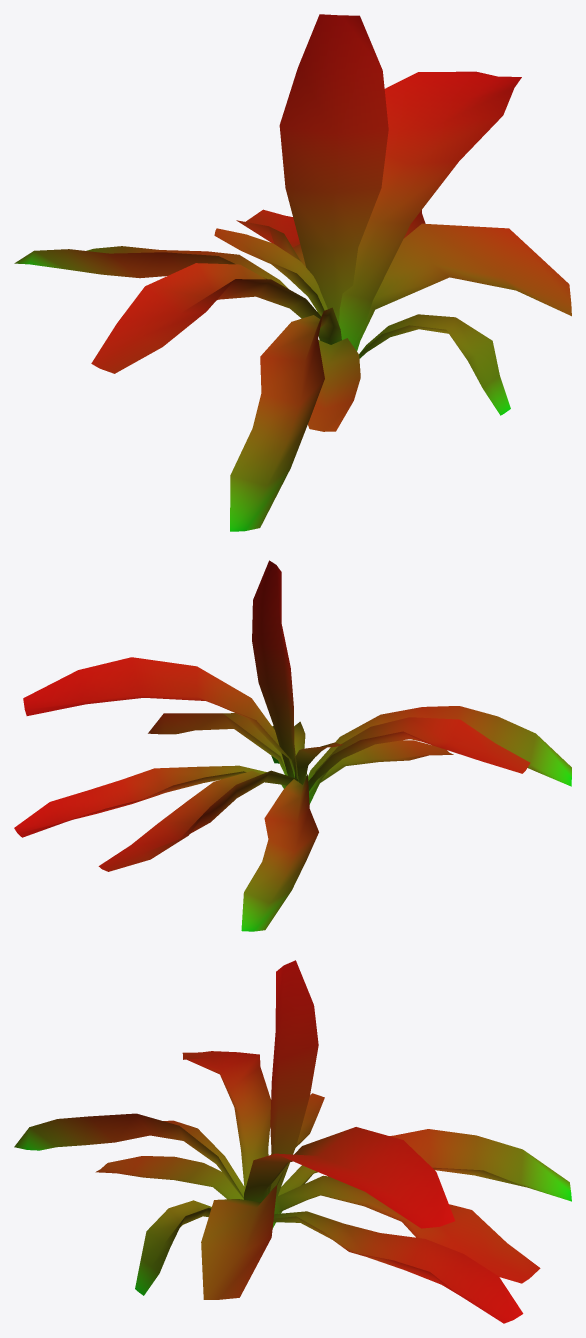
File: Bog Marshcress_LOD1_Var4_theqfivr.fbx
3 views of the same model, one above another, from view 1: azimuth 30°, elevation 25°; view 2: azimuth 150°, elevation 25°; view 3: azimuth 270°, elevation 25° (orthographic). The views are drawn at different scales.
Visible parts, largest first — view 1: merge1; view 2: merge1; view 3: merge1.
Part boxes in pixels (left/top/right/bottom): merge1: left=14, top=14, right=571, bottom=531; merge1: left=14, top=560, right=571, bottom=931; merge1: left=14, top=960, right=571, bottom=1323.
Bounding box in the file's own units: 14.51 × 8.81 × 15.08.
